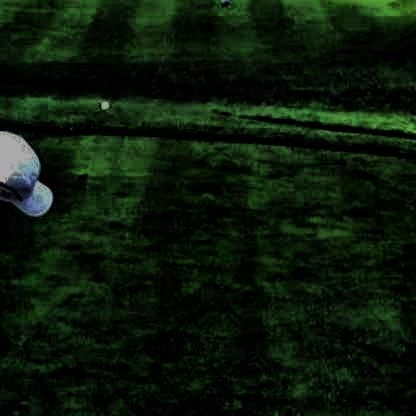golfball: (98, 99, 107, 108)
